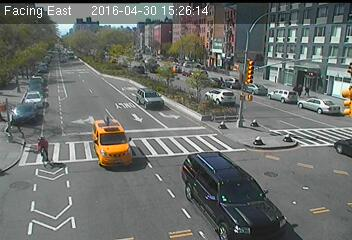neg: (73, 137, 99, 173), (108, 142, 132, 175), (200, 173, 224, 205), (47, 122, 70, 152), (306, 166, 327, 193), (309, 120, 329, 146), (29, 46, 47, 69), (136, 143, 153, 166), (275, 118, 292, 141), (25, 93, 42, 115), (222, 84, 238, 106), (257, 132, 273, 153), (195, 85, 209, 105), (165, 120, 179, 139), (296, 117, 310, 135), (235, 165, 248, 182), (142, 64, 155, 80), (55, 107, 66, 123), (108, 65, 119, 80), (160, 93, 170, 107)
pos: (295, 81, 308, 99), (302, 82, 314, 98)
